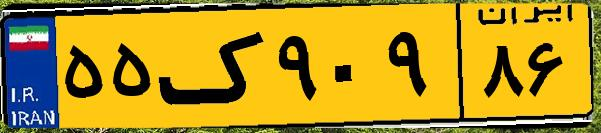0: (330, 28, 385, 110)
5: (57, 26, 110, 100), (110, 28, 158, 98)
6: (525, 38, 570, 115)
8: (475, 38, 525, 113)
9: (270, 28, 330, 110), (385, 28, 445, 110)
ک: (158, 12, 270, 120)
